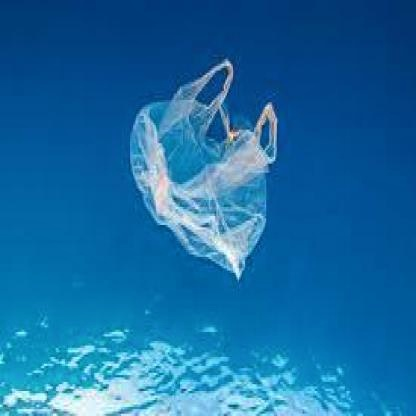pbag: (128, 57, 278, 282)
